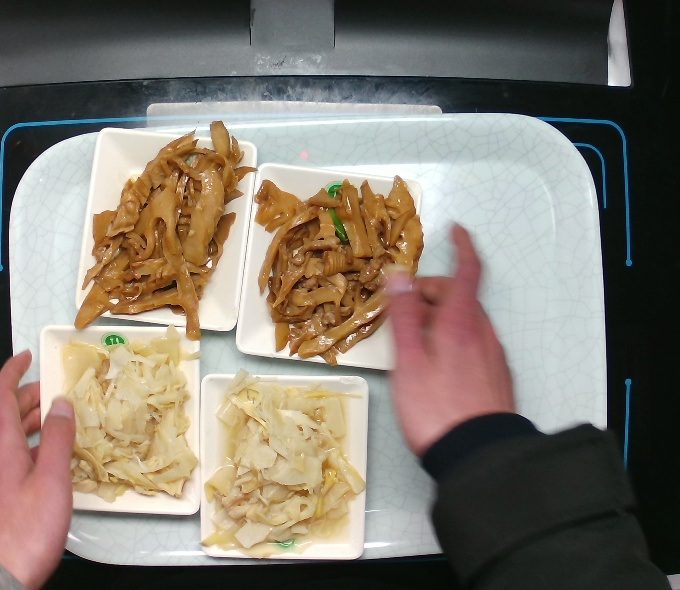wcq-LuSun: (200, 378, 359, 549), (61, 339, 197, 508)
wcq-SunGan: (83, 123, 255, 329), (255, 175, 419, 366)
